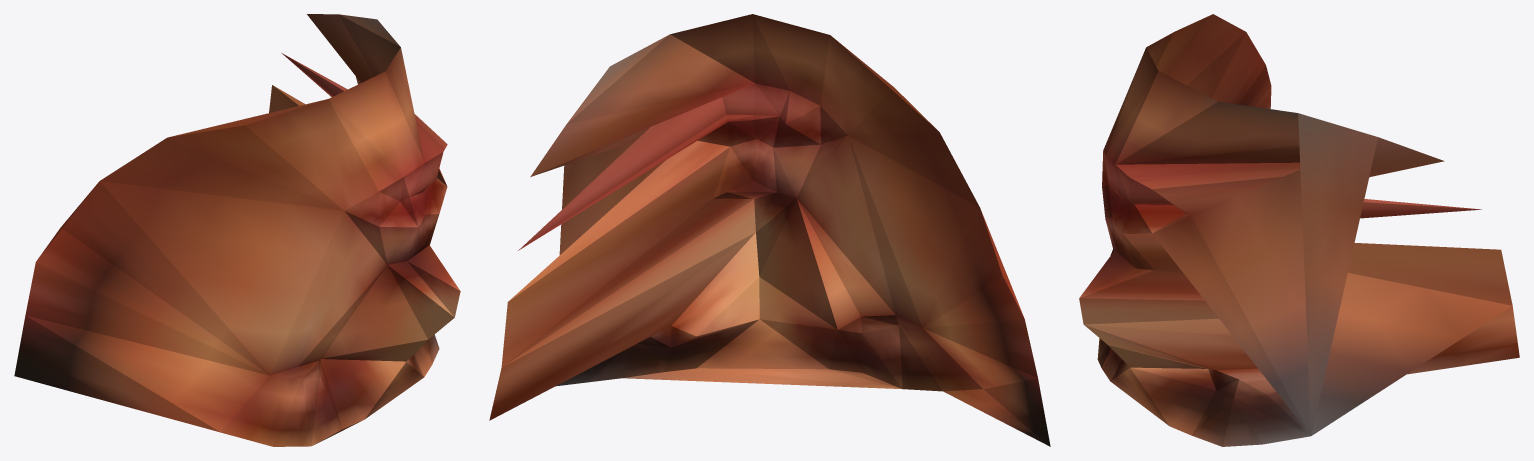
The model's file is real_16761.obj.
3 renders of one model, left to right at view 1: azimuth 30°, elevation 25°; view 2: azimuth 150°, elevation 25°; view 3: azimuth 270°, elevation 25°, orthographic. The views are drawn at different scales.
Bounding box in the file's own units: 114 × 85 × 99.61.
